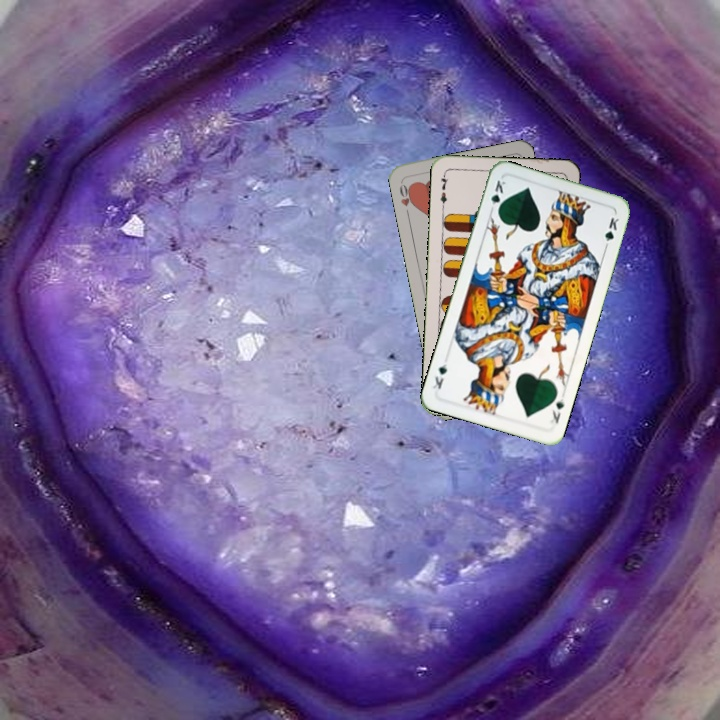E7: (436, 170, 450, 210)
GK: (486, 176, 508, 216), (546, 393, 567, 426)
HO: (395, 178, 417, 219)
